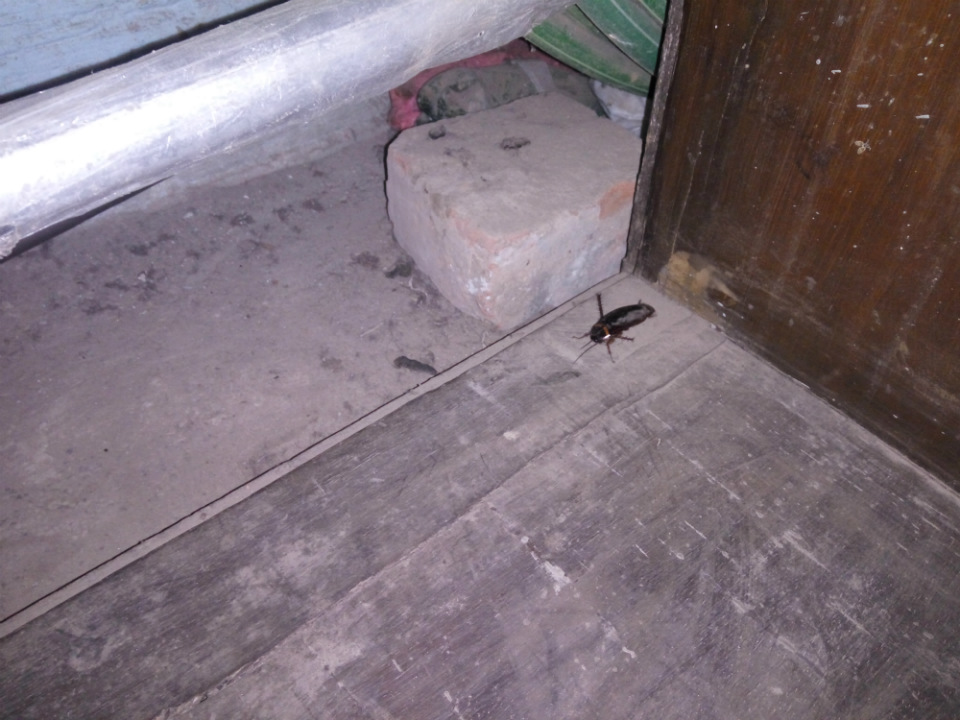cockroach: (521, 287, 717, 380)
